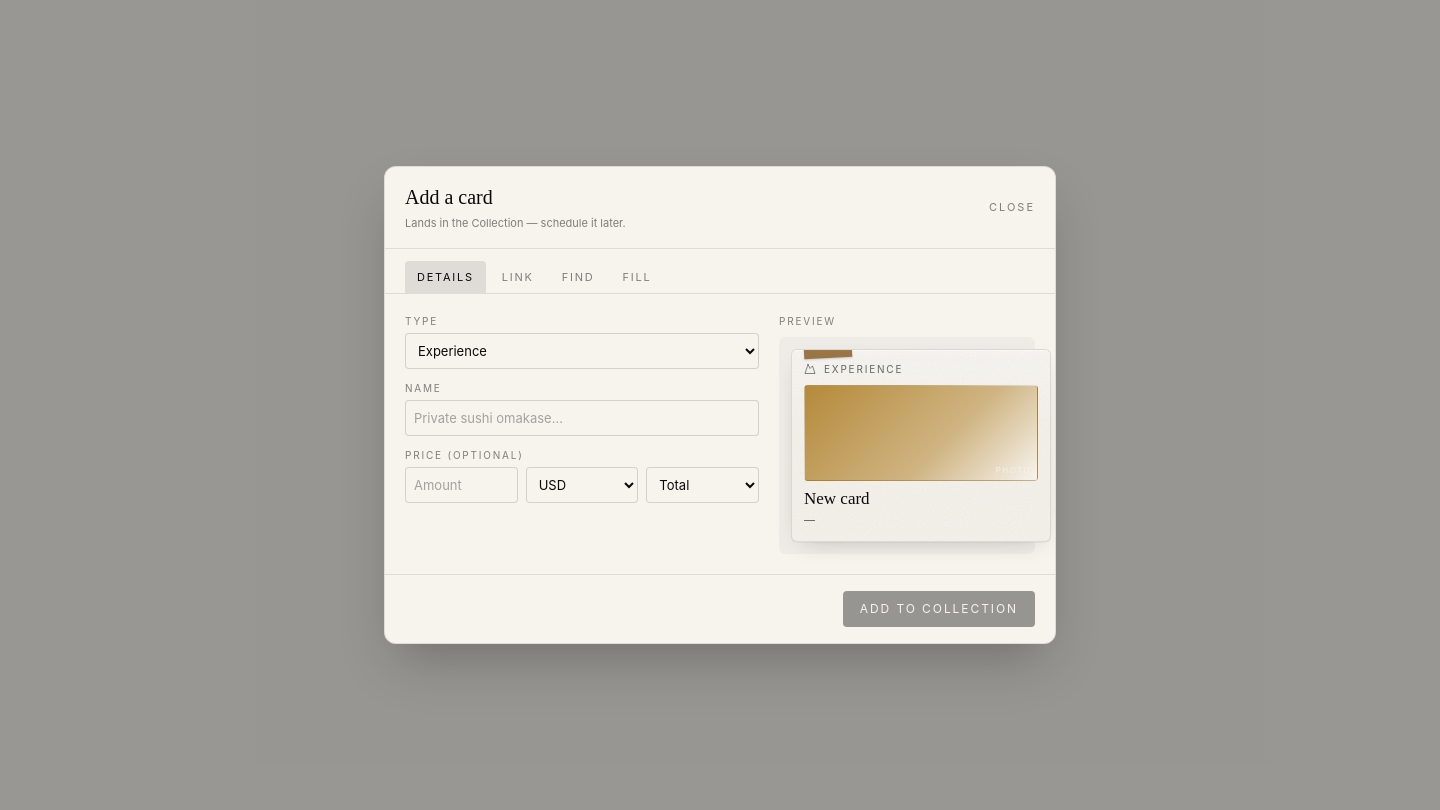
Test case: unified Add composer — Details / Link / Find / Fill › offers all four modes; Find and Fill fold the authoring sections in
Check: the button with test id "composer-mode-fill" is shown, box [610,261,663,293]
Find → the inventory search section, and a result renders as a common Card.
Click the button with test id "composer-mode-find" at (578, 277), box [550,261,606,293]
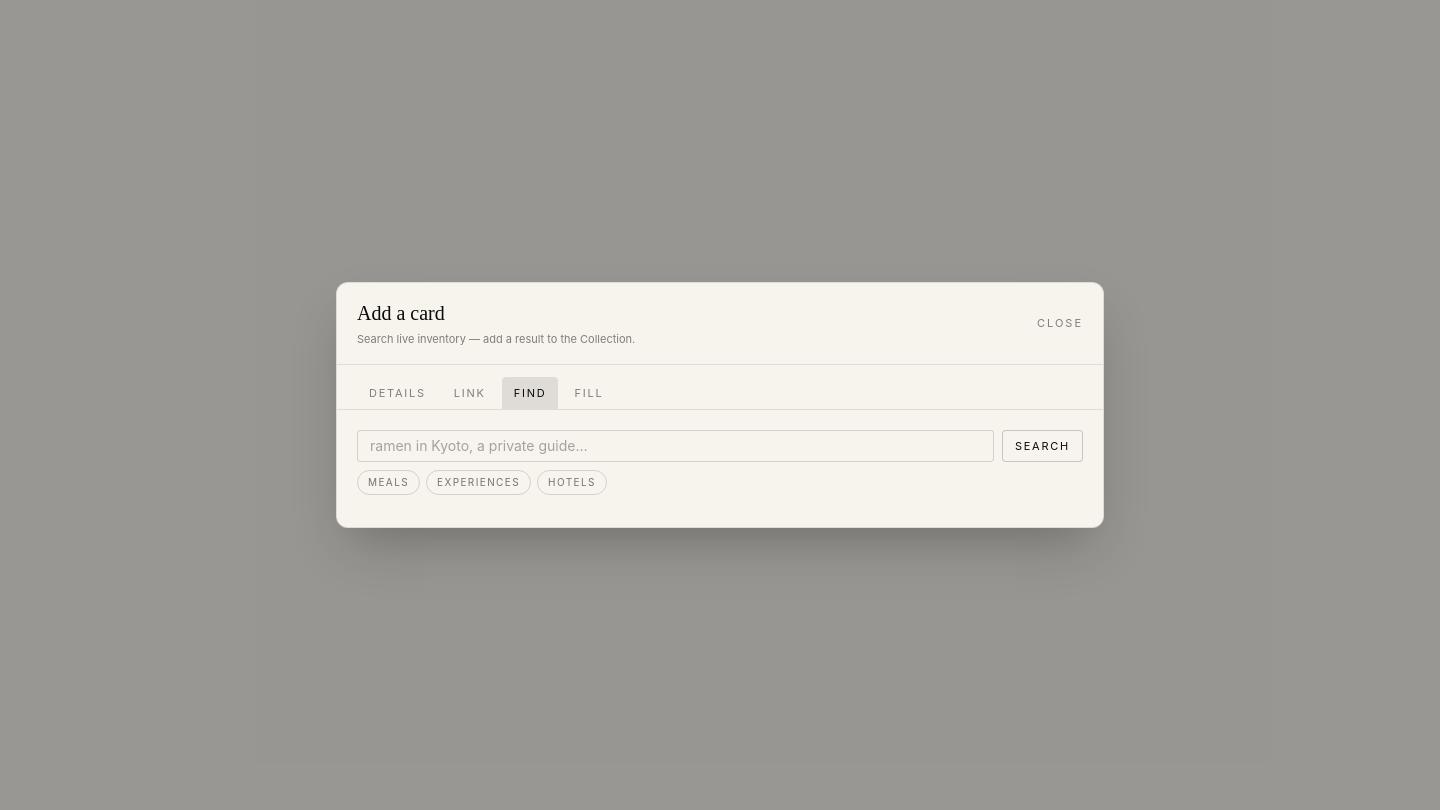
Check: the element with test id "itinerary-graph-search" is shown, box [357,430,1083,507]
Type "sushi" into the field with test id "itinerary-graph-search-input" at (675, 446), box [357,430,994,462]
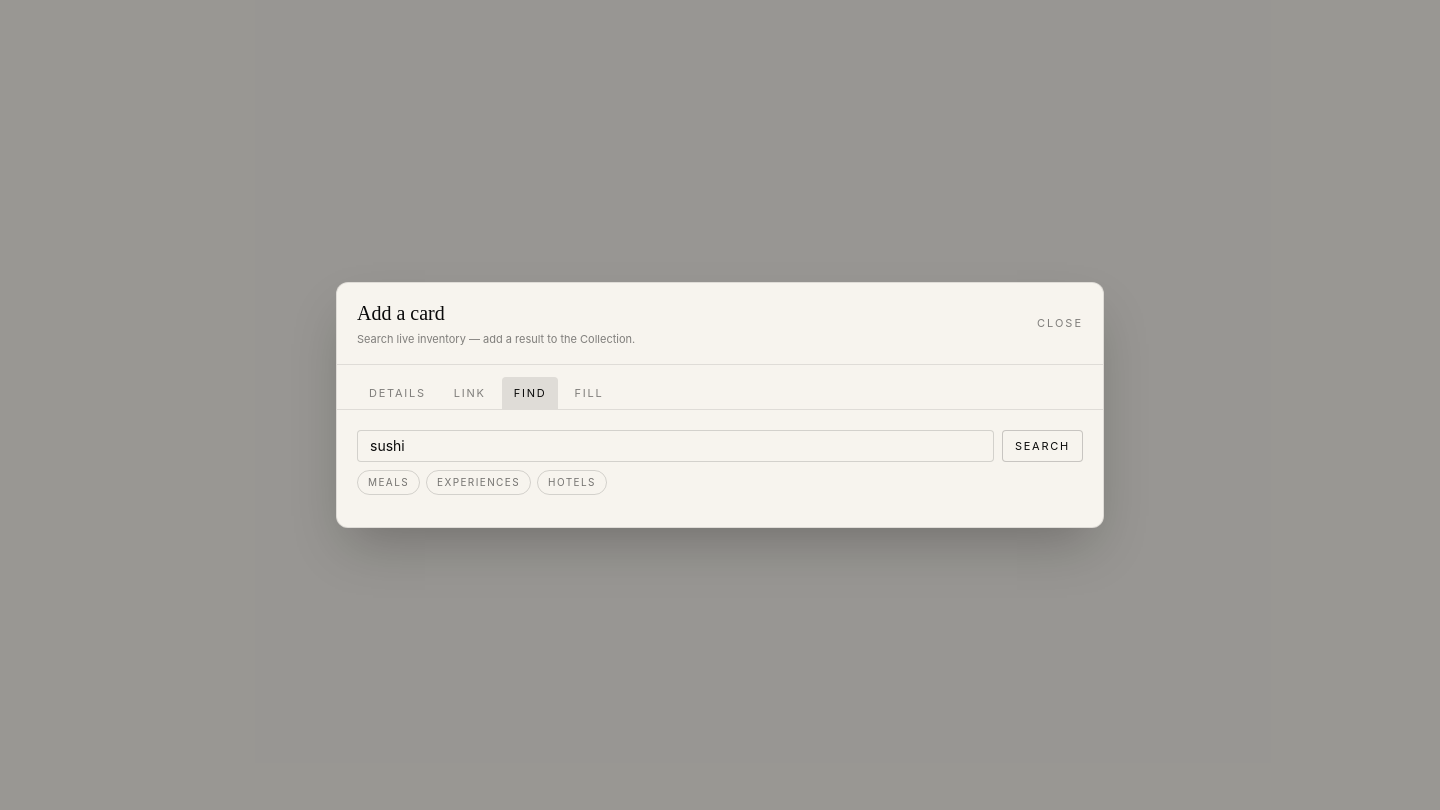
Click the button with test id "itinerary-graph-search-run" at (1042, 446), box [1002,430,1083,462]
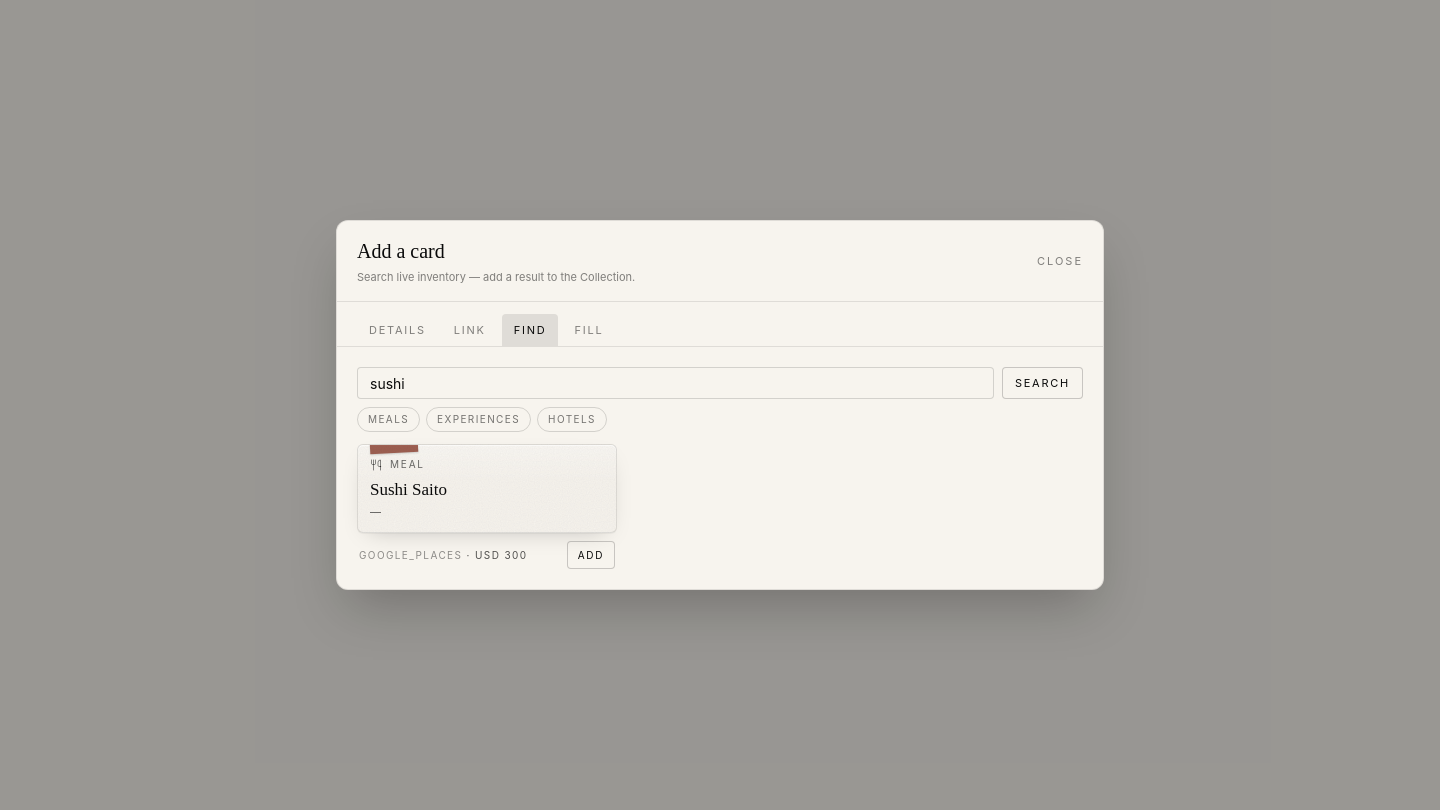
Check: the list item with test id "itinerary-graph-search-result" is shown, box [357,444,617,569]
Check: the heading "Sushi Saito" is shown, box [370,480,447,499]
Fill → the gap section.
Click the button with test id "composer-mode-fill" at (589, 330), box [562,314,615,346]
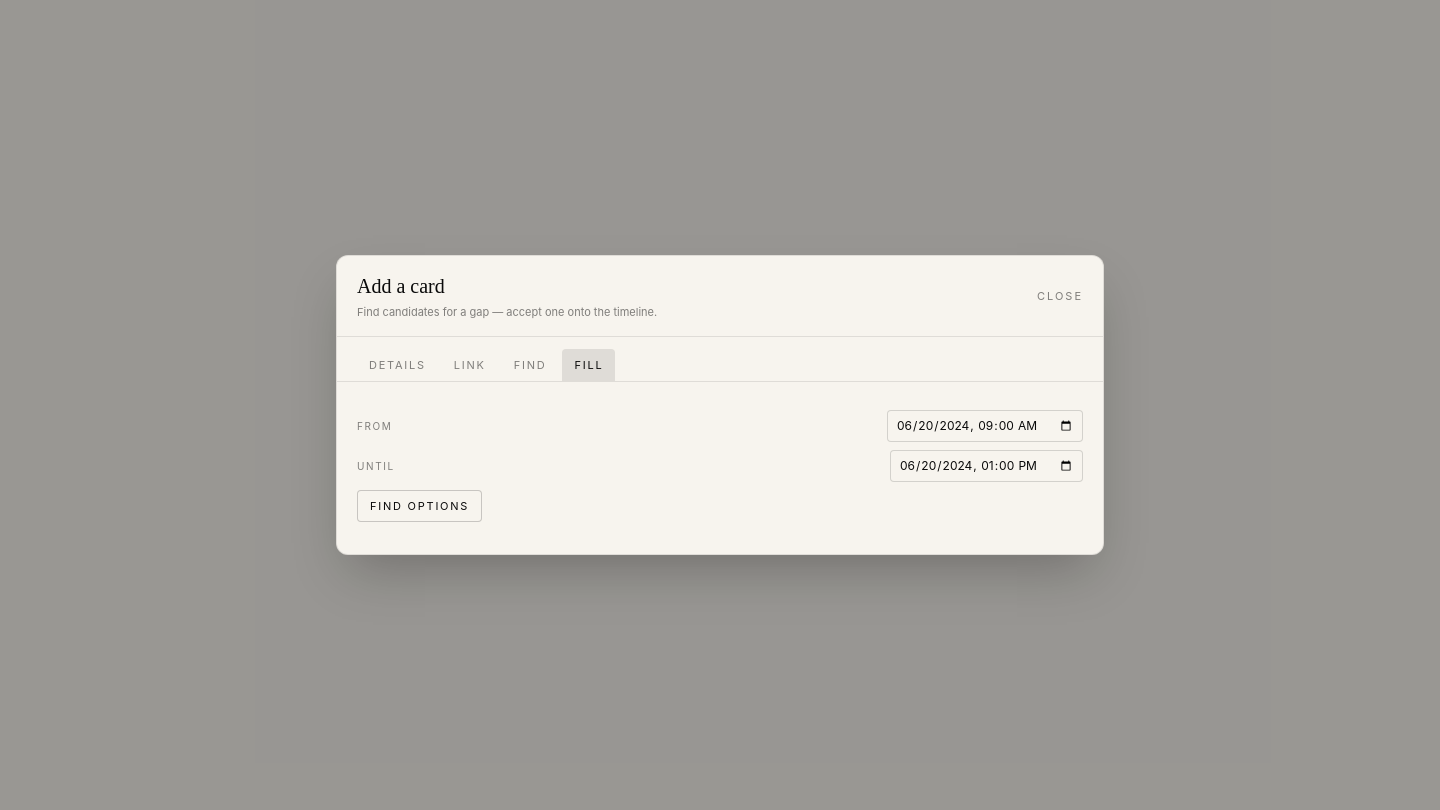
Check: the element with test id "itinerary-graph-fill" is shown, box [357,410,1083,534]
Check: the button with test id "itinerary-graph-fill-run" is shown, box [357,490,482,522]
